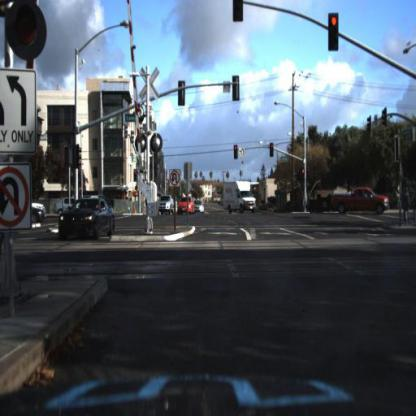biker: (398, 185, 410, 227)
car: (58, 198, 117, 233), (333, 187, 393, 212), (56, 192, 74, 220), (157, 195, 175, 217), (154, 194, 171, 216), (178, 198, 195, 213), (193, 201, 205, 214)
pedestrian: (400, 167, 413, 232), (411, 184, 416, 219)
trafficLight: (232, 1, 244, 25), (233, 140, 239, 162)
trafficLight-Red: (329, 11, 340, 49), (269, 141, 276, 158), (300, 161, 306, 179), (302, 165, 307, 177)
truck: (225, 182, 256, 211)
